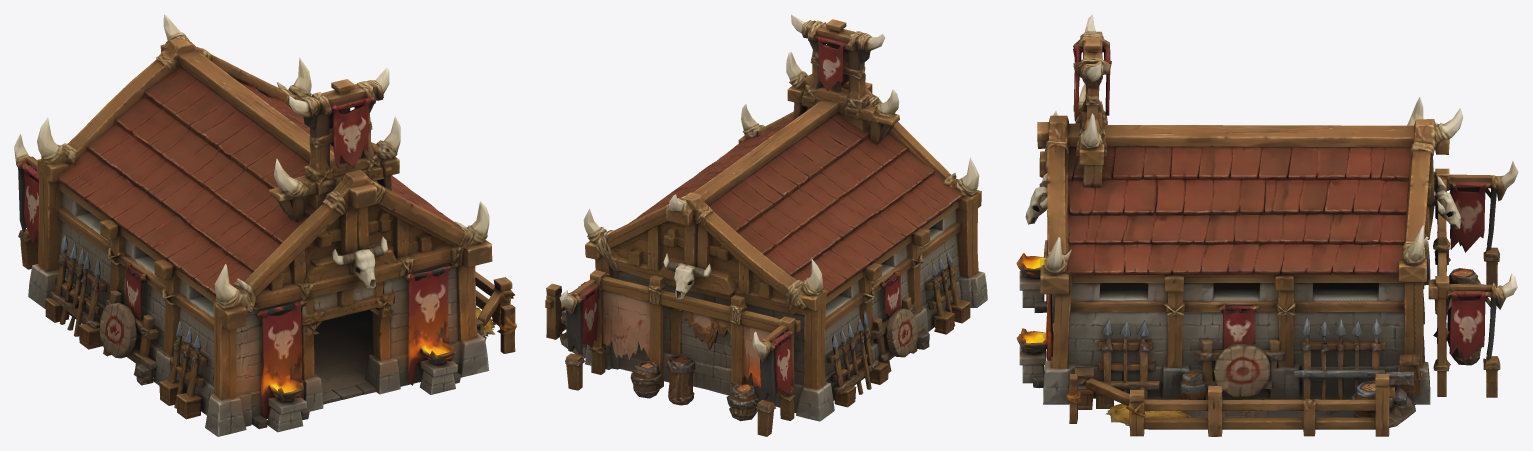
The model's file is beastmen barracks.glb.
3 views of the same model, side by side, from view 1: azimuth 30°, elevation 25°; view 2: azimuth 150°, elevation 25°; view 3: azimuth 270°, elevation 25° (orthographic). The views are drawn at different scales.
Parts seen in each view (by area): view 1: model; view 2: model; view 3: model.
Part boxes in pixels (x1,y1,x2,y2): model: [14, 14, 516, 436]; model: [545, 14, 987, 436]; model: [1016, 14, 1518, 436].
Size of the model in its own units: 1.54 by 1.28 by 1.9.
Materials: 1 (1 with a texture image).
